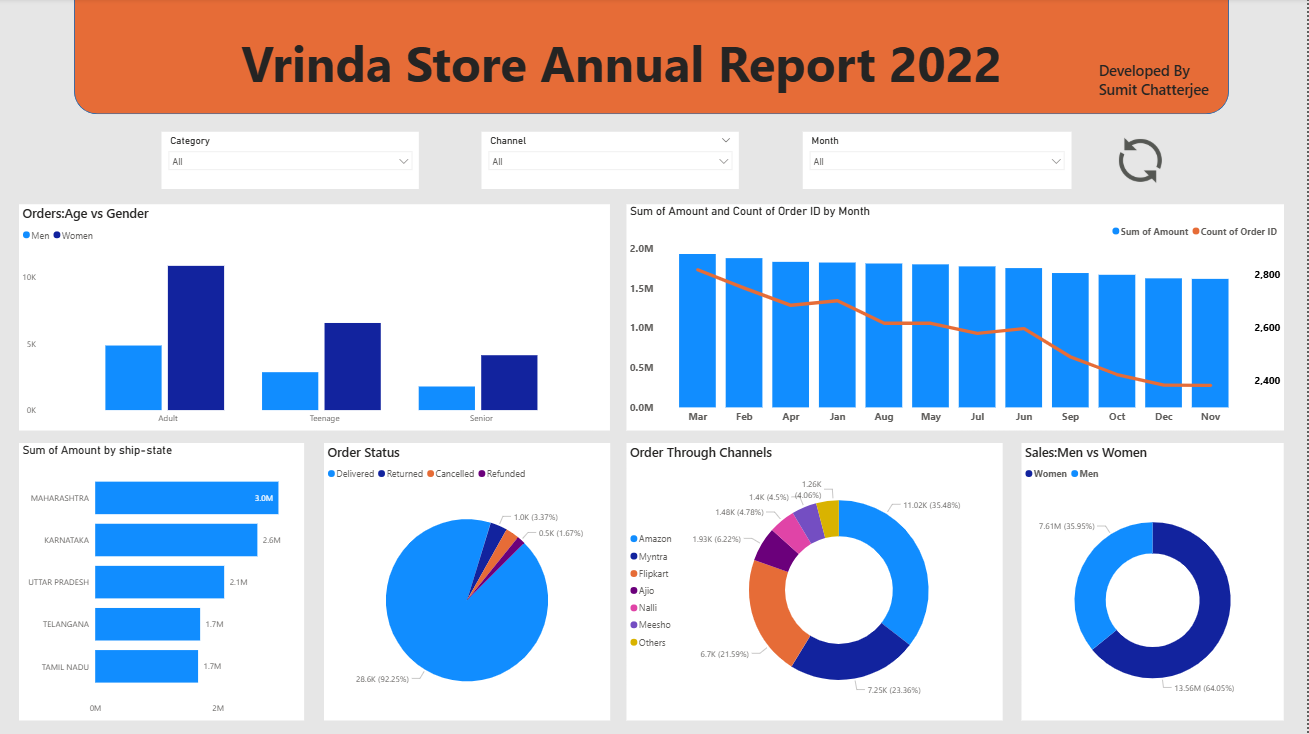

What the dashboard file says about the page in this screenshot:
{"tool":"powerbi","page":{"name":"Page 1","canvas":[1920,1080],"ordinal":0},"visuals":[{"type":"donutChart","title":"Sales:Men vs Women","fields":{"Category":["Vrinda Store.Gender"],"Y":["Sum(Vrinda Store.Amount)"]},"box":[1500.4,653,385.2,407.2],"z":0},{"type":"pieChart","title":"Order Status","fields":{"Y":["CountNonNull(Vrinda Store.Order ID)"],"Category":["Vrinda Store.Status"]},"box":[476.9,653,420,407.2],"z":1000},{"type":"donutChart","title":"Order Through Channels","fields":{"Y":["CountNonNull(Vrinda Store.Order ID)"],"Category":["Vrinda Store.Channel "]},"box":[920.8,653,552.1,407.2],"z":2000},{"type":"clusteredColumnChart","title":"Orders:Age vs Gender","fields":{"Category":["Vrinda Store.Age Group"],"Y":["CountNonNull(Vrinda Store.Order ID)"],"Series":["Vrinda Store.Gender"]},"box":[29.3,302.7,867.6,332],"z":3000},{"type":"clusteredBarChart","fields":{"Category":["Vrinda Store.ship-state"],"Y":["Sum(Vrinda Store.Amount)"]},"box":[29.3,653,418.2,407.2],"z":4000},{"type":"slicer","fields":{"Values":["Vrinda Store.Month"]},"box":[1179.4,196.3,394.4,84.4],"z":5000},{"type":"slicer","fields":{"Values":["Vrinda Store.Category"]},"box":[238.5,196.3,377.9,84.4],"z":6000},{"type":"slicer","fields":{"Values":["Vrinda Store.Channel "]},"box":[708,196.3,377.9,84.4],"z":7000},{"type":"lineClusteredColumnComboChart","fields":{"Category":["Vrinda Store.Month"],"Y2":["CountNonNull(Vrinda Store.Order ID)"],"Y":["Sum(Vrinda Store.Amount)"]},"box":[920.8,302.7,964.8,332],"z":8000},{"type":"shape","box":[110.1,0,1694.8,170.6],"z":9000},{"type":"textbox","box":[350.3,40.4,1179.4,113.7],"z":10000},{"type":"textbox","box":[1608.6,86.2,196.3,67.9],"z":11000},{"type":"image","box":[1628.8,196.3,91.7,84.4],"z":12000}]}

Visuals, with their boxes in screenshot pixels (x1, y1, x2, y2), scaled from the page's 1920x1080 canvas onto the 1309x734 screenshot:
"Sales:Men vs Women" donutChart: l=1023, t=444, r=1286, b=721
"Order Status" pieChart: l=325, t=444, r=611, b=721
"Order Through Channels" donutChart: l=628, t=444, r=1004, b=721
"Orders:Age vs Gender" clusteredColumnChart: l=20, t=206, r=611, b=431
clusteredBarChart - Vrinda Store.ship-state x Sum(Vrinda Store.Amount): l=20, t=444, r=305, b=721
slicer - Vrinda Store.Month: l=804, t=133, r=1073, b=191
slicer - Vrinda Store.Category: l=163, t=133, r=420, b=191
slicer - Vrinda Store.Channel : l=483, t=133, r=740, b=191
lineClusteredColumnComboChart - Vrinda Store.Month x CountNonNull(Vrinda Store.Order ID): l=628, t=206, r=1286, b=431
shape: l=75, t=0, r=1231, b=116
textbox: l=239, t=27, r=1043, b=105
textbox: l=1097, t=59, r=1231, b=105
image: l=1110, t=133, r=1173, b=191
